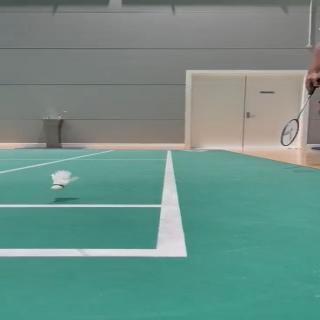Shuttle: (48, 170, 81, 191)
